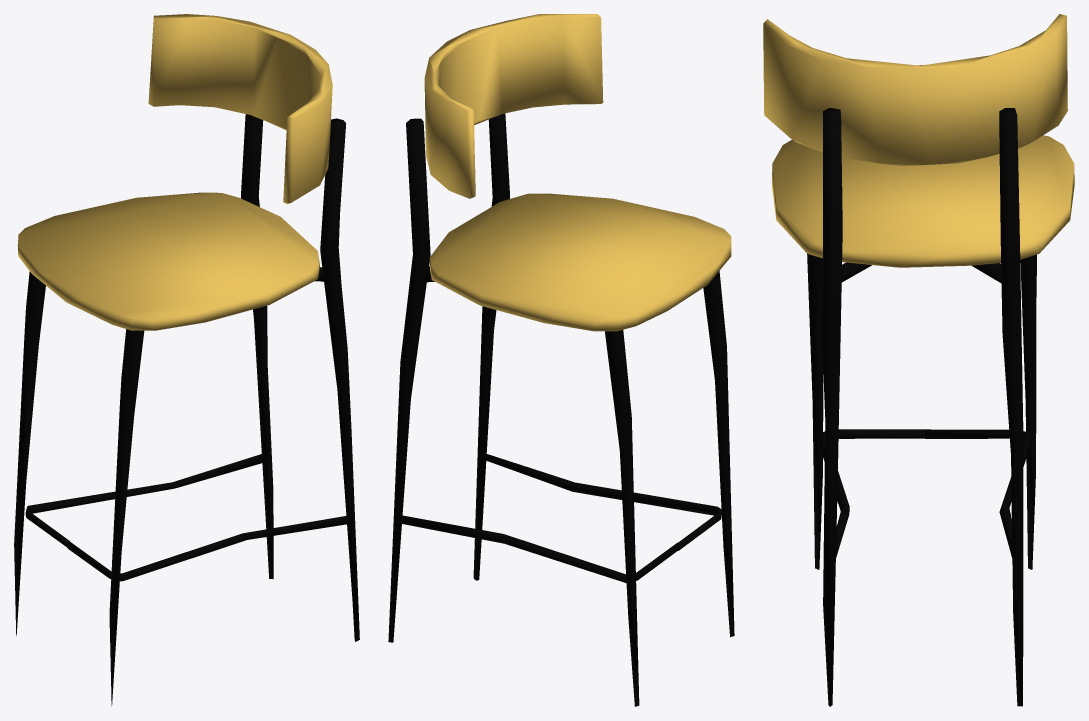
The model's file is TallChairLod.fbx.
3 views of the same model, side by side, from view 1: azimuth 30°, elevation 25°; view 2: azimuth 150°, elevation 25°; view 3: azimuth 270°, elevation 25° (orthographic). The views are drawn at different scales.
Parts seen in each view (by area): view 1: TallChair_LOD0; view 2: TallChair_LOD0; view 3: TallChair_LOD0.
Boxes of the visible parts, x1,y1,x2,y2 form: TallChair_LOD0: (14, 14, 359, 705); TallChair_LOD0: (388, 14, 734, 706); TallChair_LOD0: (763, 14, 1074, 706).
Size of what is drawn, in the model's own units: 0.384 by 0.7937 by 0.3515.
